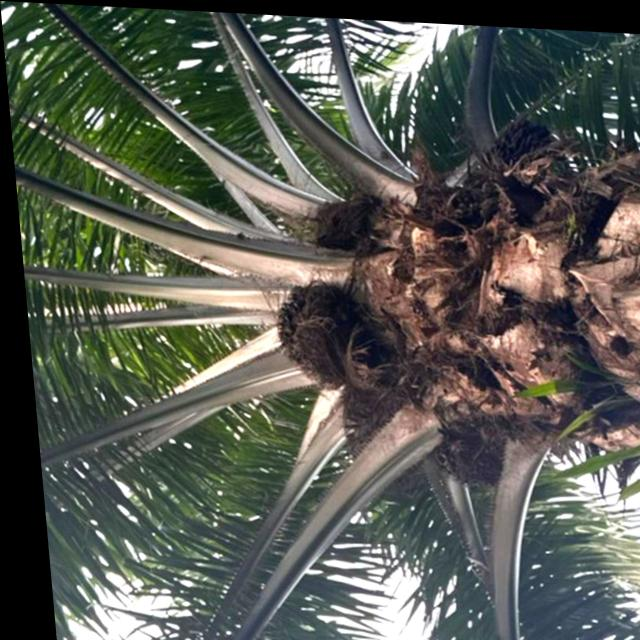unripe: (263, 271, 357, 390)
